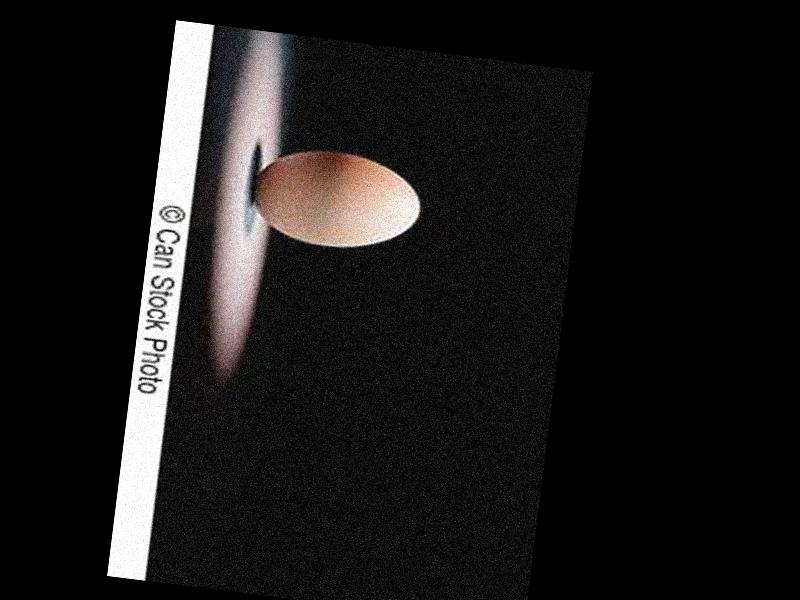Eggs: (246, 139, 425, 256)
